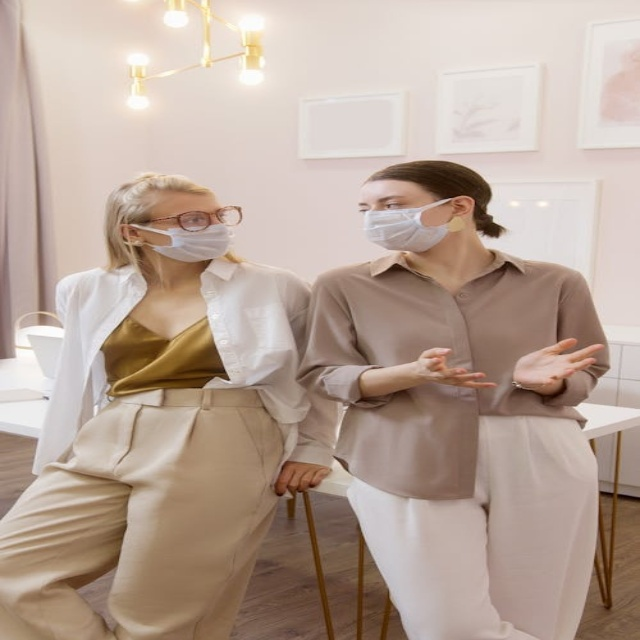Gafas: (136, 207, 241, 232)
Mascara: (364, 198, 460, 252), (129, 221, 232, 262)
Sin_gafas: (355, 193, 425, 211)
Sin_guantes: (509, 336, 609, 387), (416, 343, 502, 392), (269, 461, 333, 498)
